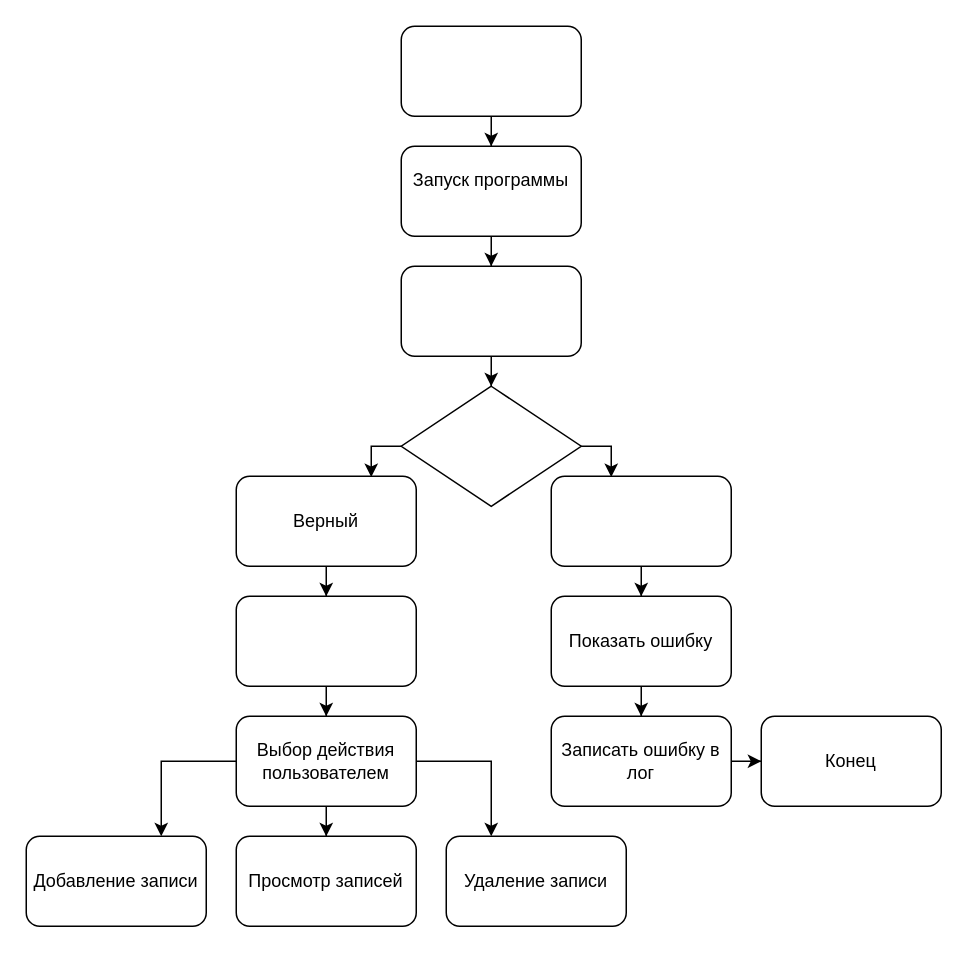
The diagram is 968 pixels wide and 953 high, and some of its shapes have lost their labels. The box of each missing label's shape, as (x1, y1, x2, y2) in pixels:
Ввод мастер-пароля: (400, 265, 581, 356)
Начало: (400, 25, 581, 116)
Неверный: (550, 475, 731, 566)
Открыть менеджер паролей: (235, 595, 416, 686)
Проверка пароля: (400, 385, 581, 506)
